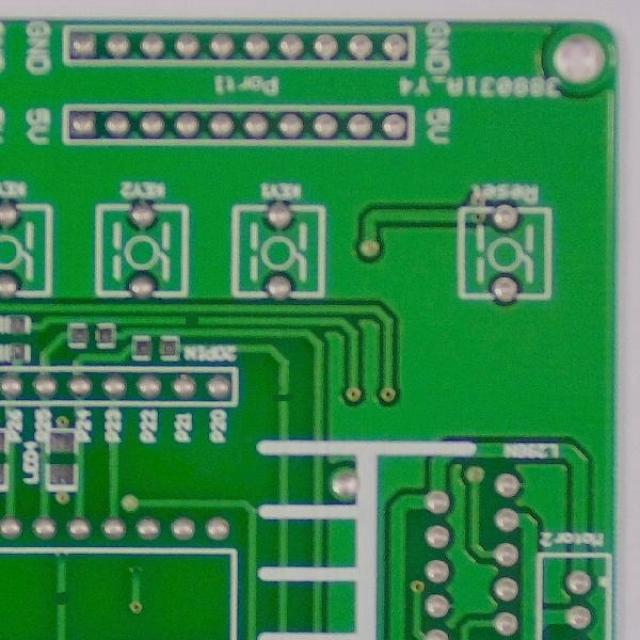open_circuit: (50, 588, 75, 610), (273, 388, 293, 406), (182, 314, 203, 326)
